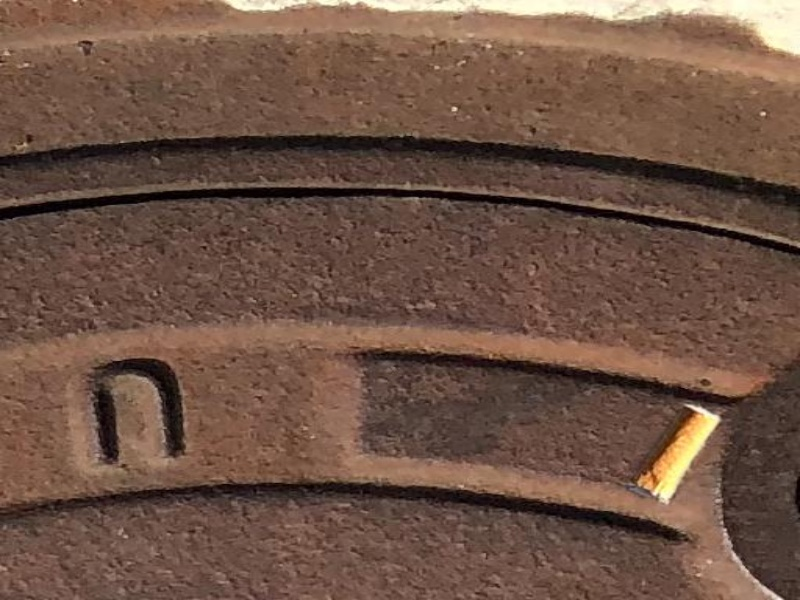cig: (635, 396, 718, 508)
